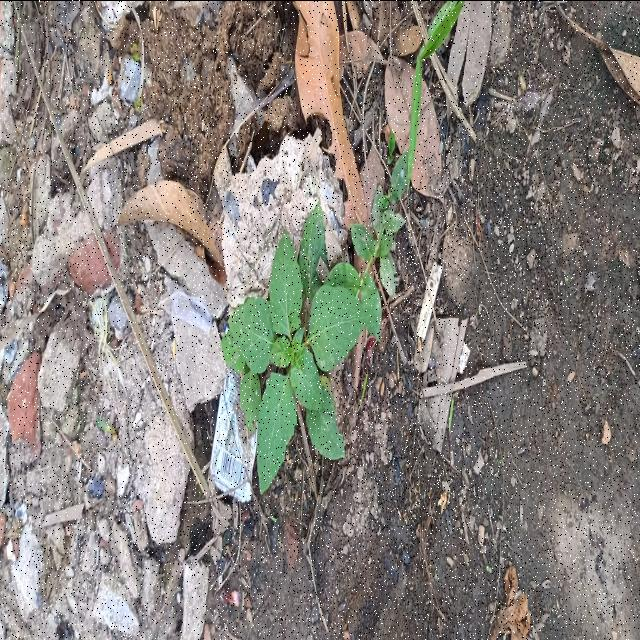plant: (221, 152, 408, 491)
